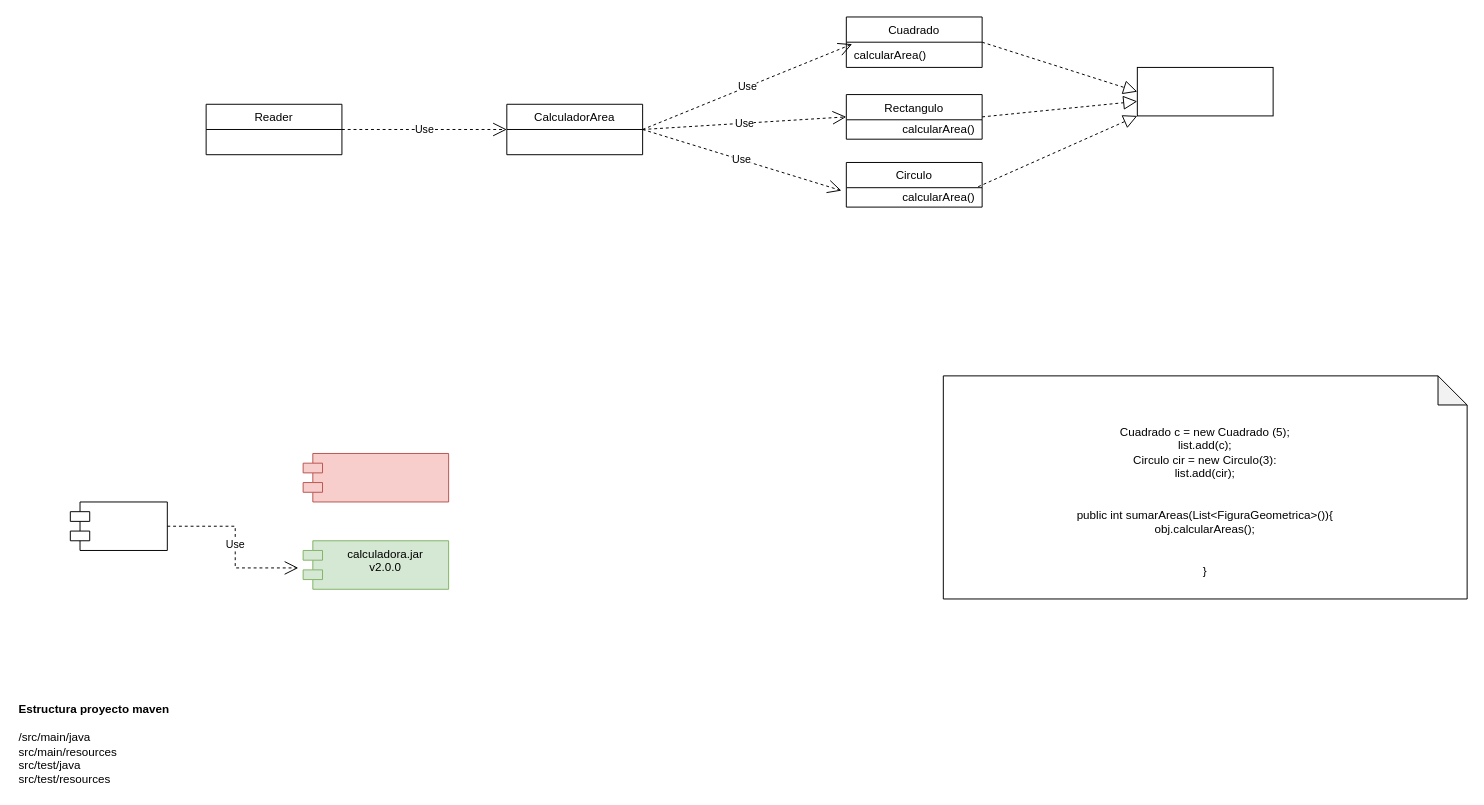
Some shapes in this 1484 by 805 pixel diagram are drawn without their labels. Here are the shapes that lost their labels. From the top down, the centre of each, then its label:
At (1204,91): "«interface» FiguraGeometrica".
At (375,477): "calculadora.jar v1.0.0".
At (118,525): "reader.jar".
